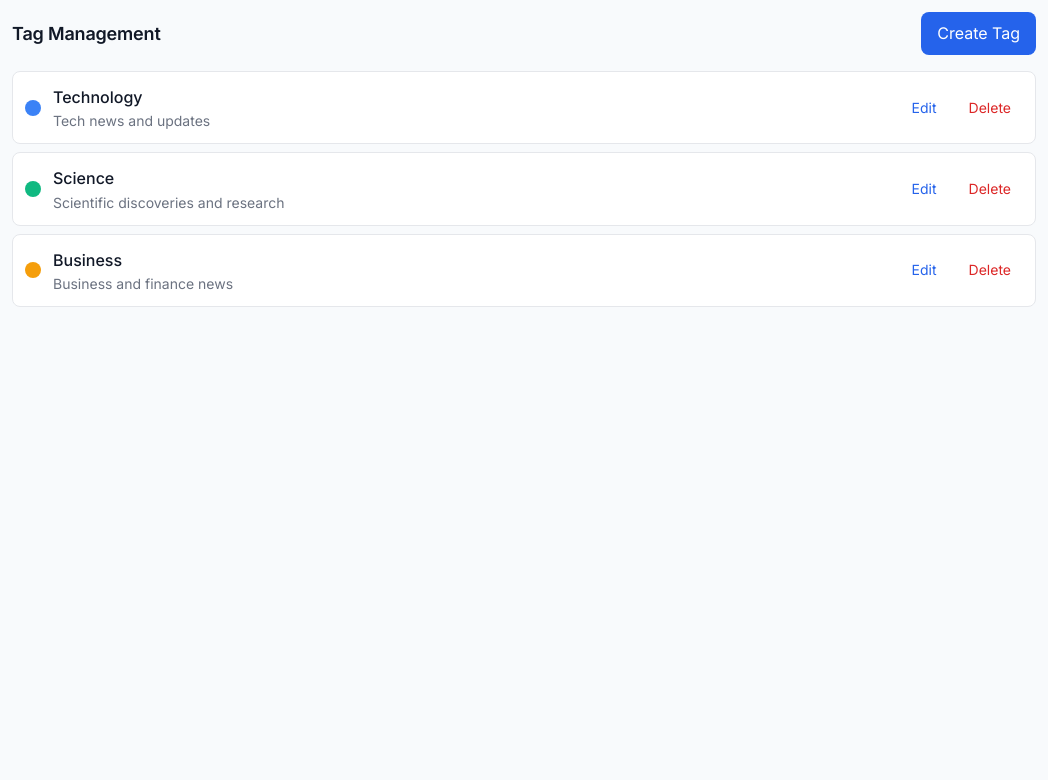
it: TagManagement › Create Form › shows create form when "Create Tag" button is clicked
This screenshot has width=1048, height=780.
Click the button "Create Tag". click: point(979, 34)
box: [921,12,1036,55]
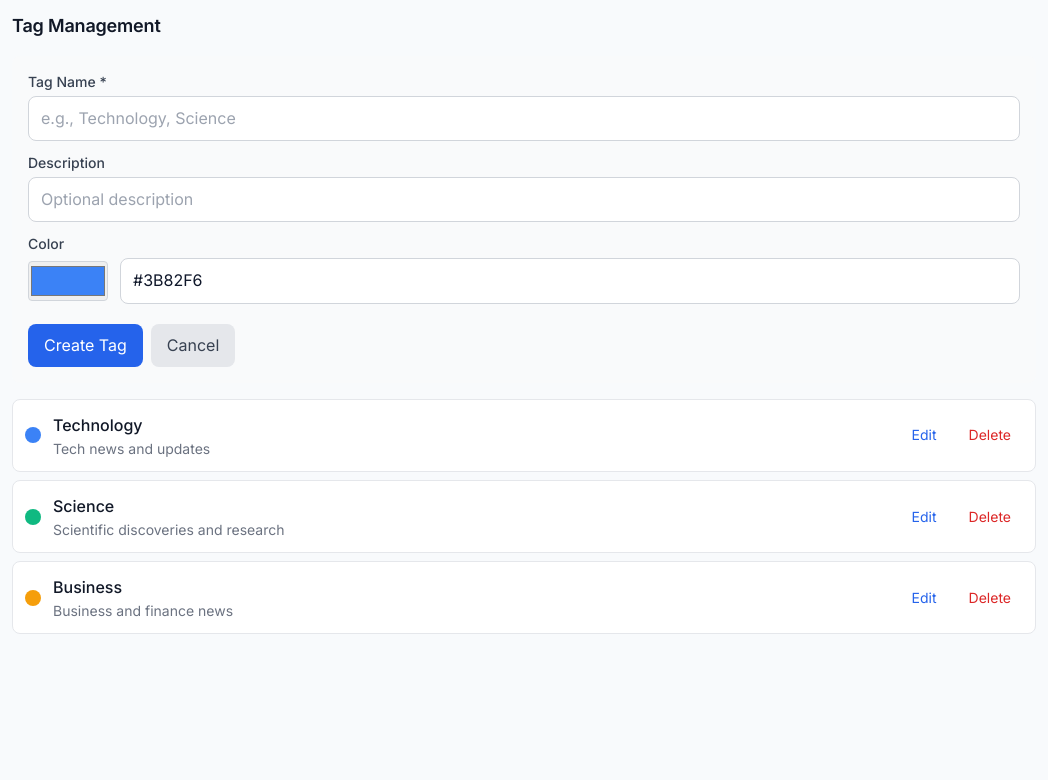
Check: the field labelled "Tag Name *" is shown, box [28,96,1020,141]
Check: the field labelled "Description" is shown, box [28,177,1020,222]
Check: the colour field labelled "Color" is shown, box [28,261,108,301]
